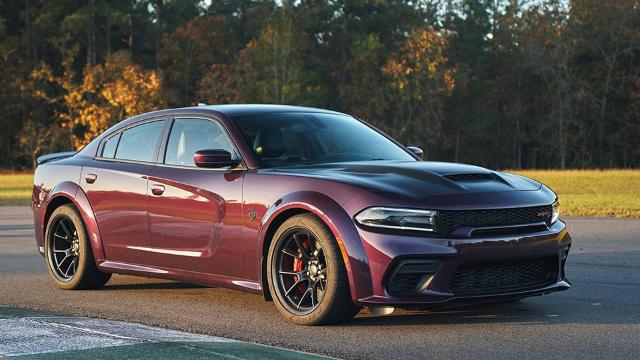dodge: (31, 102, 574, 326)
